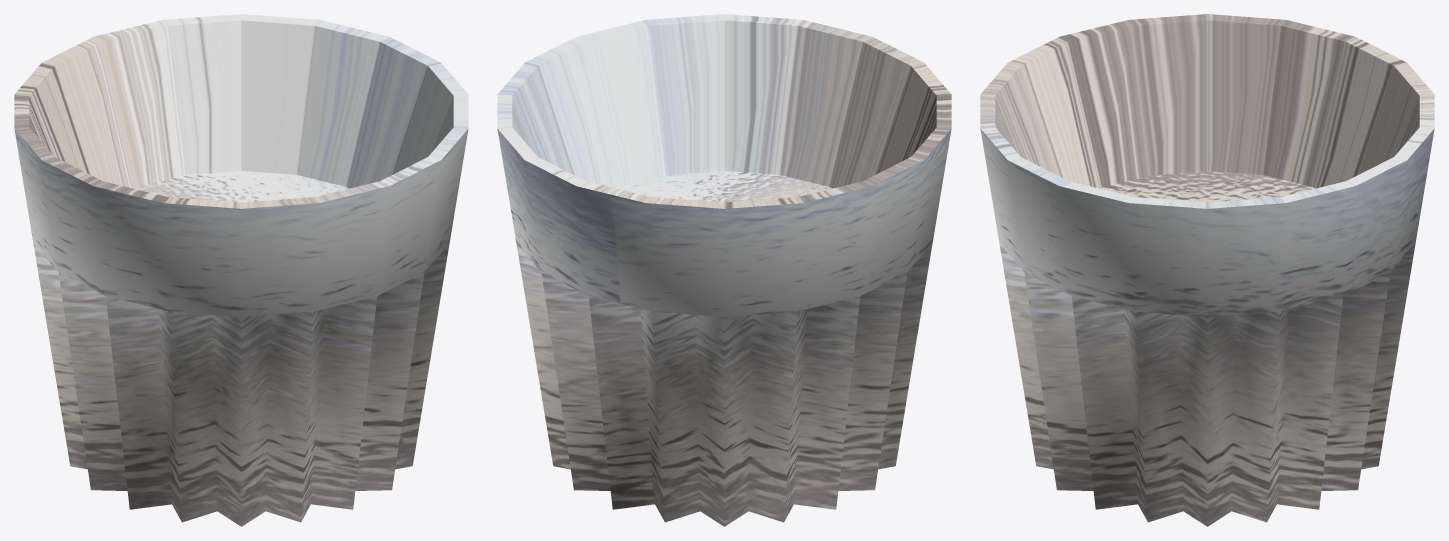
Rendered from verre_whisky.FBX.
3 views of the same model, side by side, from view 1: azimuth 30°, elevation 25°; view 2: azimuth 150°, elevation 25°; view 3: azimuth 270°, elevation 25° (orthographic).
Parts seen in each view (by area): view 1: Verre_Whisky; view 2: Verre_Whisky; view 3: Verre_Whisky.
Part boxes in pixels (bbox=[...]): Verre_Whisky: bbox=[14, 14, 468, 526]; Verre_Whisky: bbox=[497, 14, 951, 526]; Verre_Whisky: bbox=[980, 14, 1434, 526].
Size of the model in its own units: 4.08 by 3.34 by 4.02.
